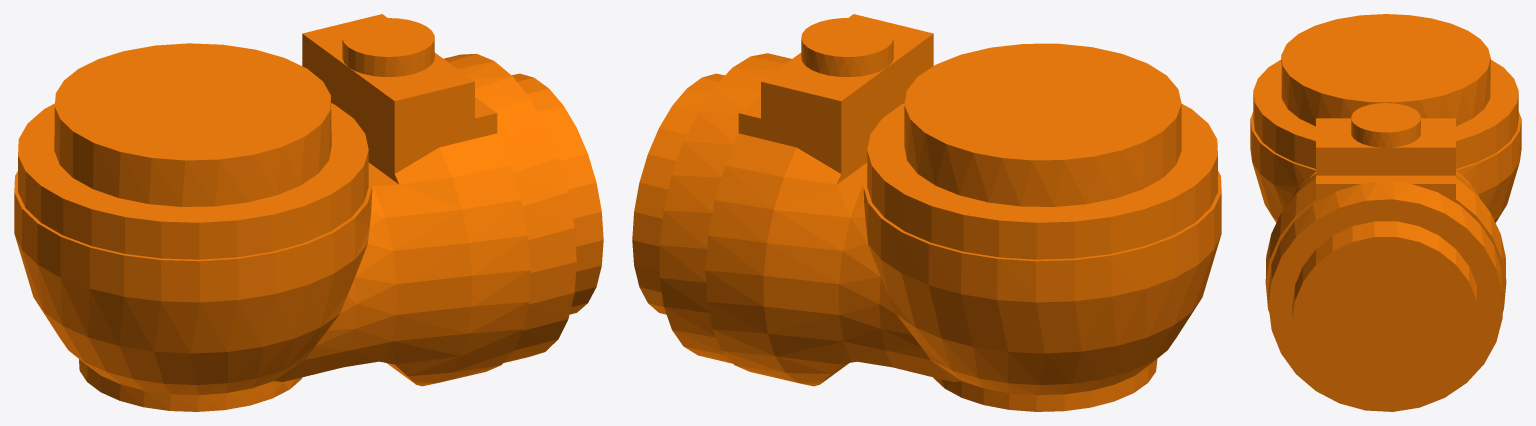
3 renders of one model, left to right at view 1: azimuth 30°, elevation 25°; view 2: azimuth 150°, elevation 25°; view 3: azimuth 270°, elevation 25°, orthographic. The views are drawn at different scales.
Parts seen in each view (by area): view 1: node0; view 2: node0; view 3: node0.
Part boxes in pixels (left/top/right/bottom): node0: left=14, top=14, right=603, bottom=411; node0: left=632, top=14, right=1221, bottom=411; node0: left=1250, top=14, right=1521, bottom=411.
Bounding box in the file's own units: 0.1573 × 0.0969 × 0.101.
